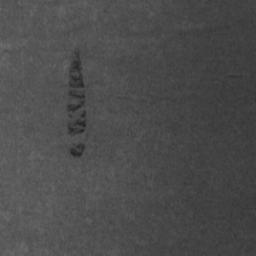Secondary rust skin: (66, 59, 87, 136), (69, 142, 86, 158)
